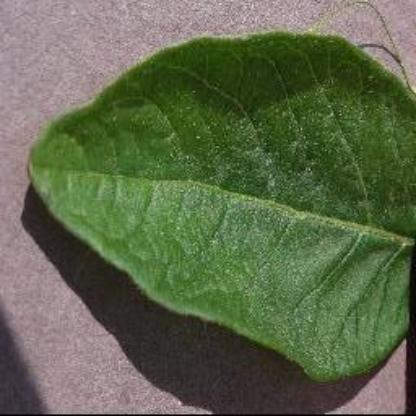Healthy-plant: (26, 27, 414, 384)
